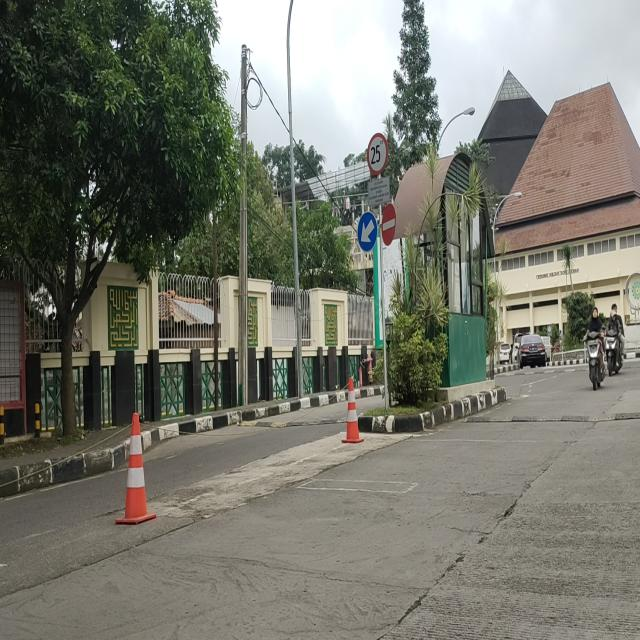helmet: (610, 311, 616, 321)
no-helmet: (591, 308, 599, 318), (612, 304, 618, 311)
